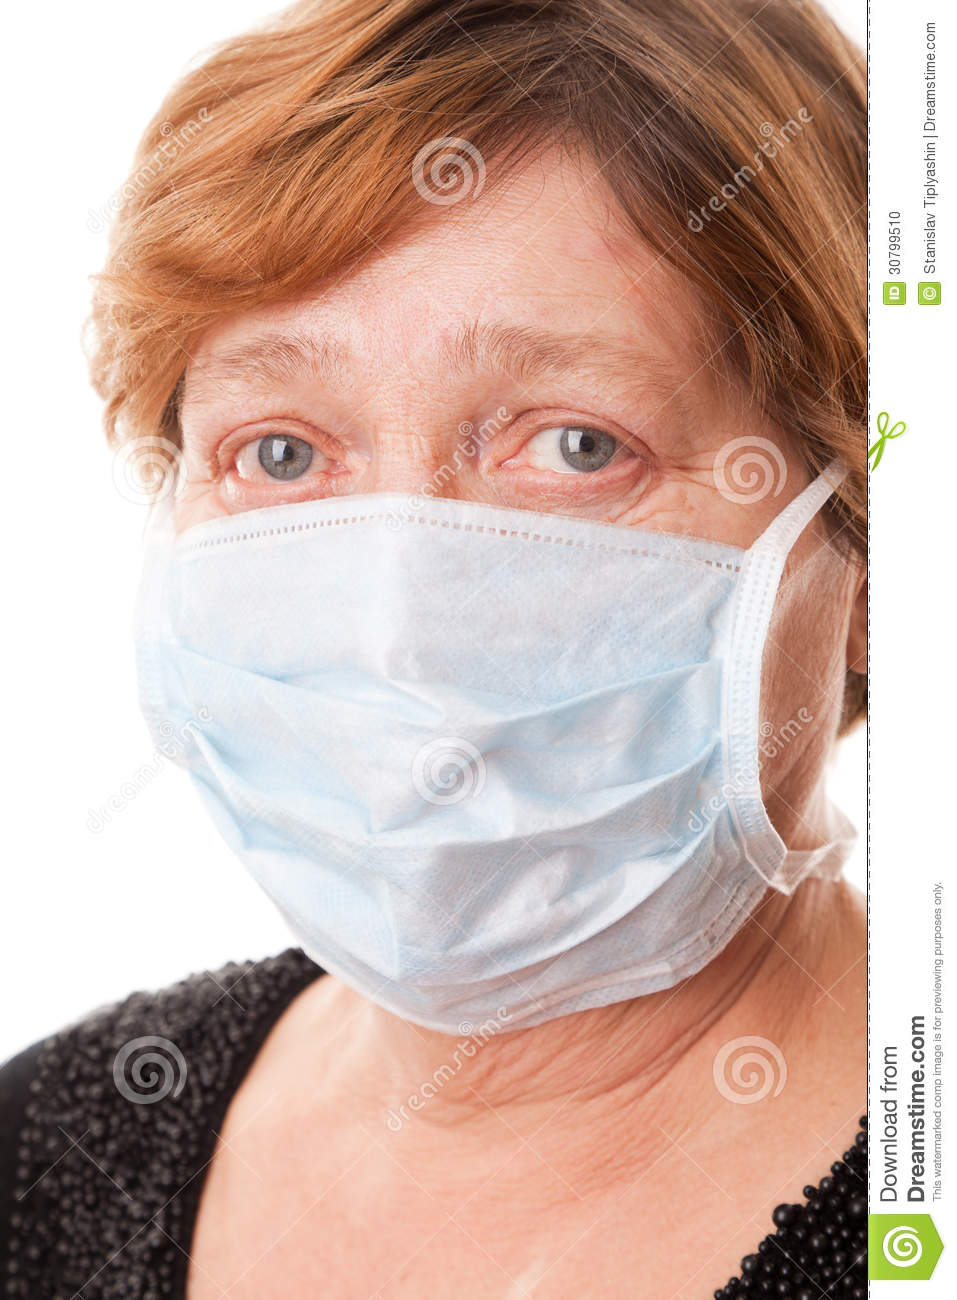mask: (130, 539, 786, 969)
